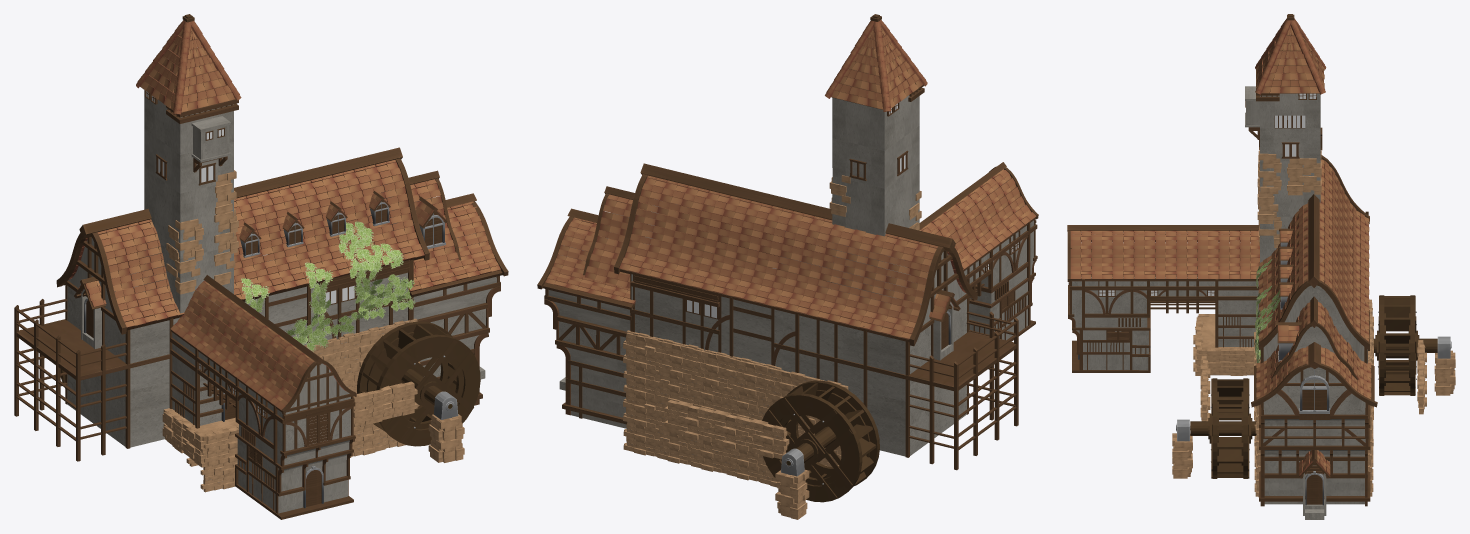
File: Long's new house modular .fbx
The picture shows the model from 3 angles, left to right: view 1: azimuth 30°, elevation 25°; view 2: azimuth 150°, elevation 25°; view 3: azimuth 270°, elevation 25°; orthographic projection. The views are drawn at different scales.
Visible parts, largest first — view 1: Cube.151, Plane.002; view 2: Cube.151; view 3: Cube.151, Plane.002.
Boxes of the visible parts, box(x1,y1,x2,y2) form: Cube.151: box(14, 14, 508, 519); Plane.002: box(146, 91, 354, 443); Cube.151: box(537, 14, 1038, 519); Cube.151: box(1067, 14, 1455, 519); Plane.002: box(1099, 93, 1316, 331).
Size of the model in its own units: 4628 by 4712 by 4208.
